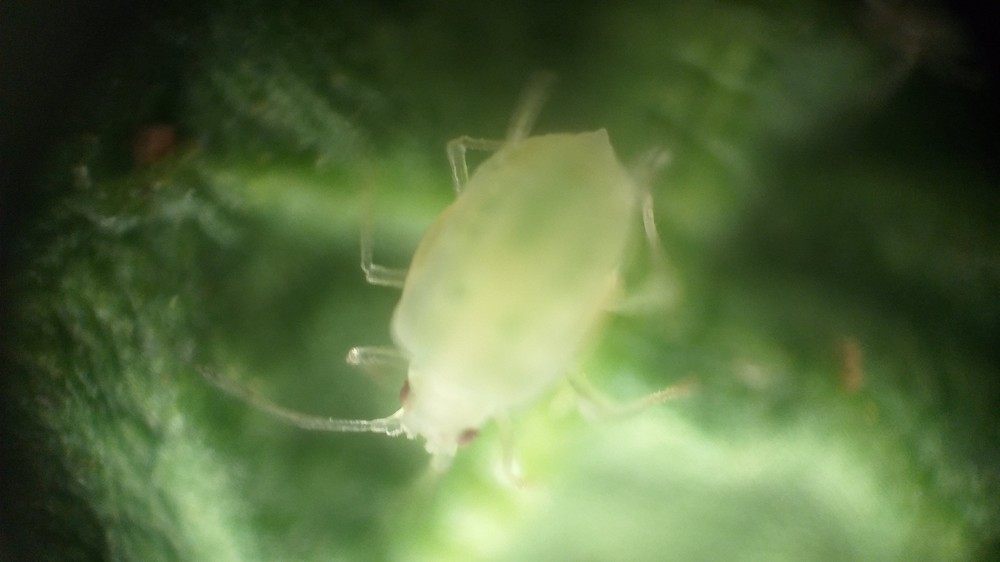Pulgon: (216, 53, 745, 552)
